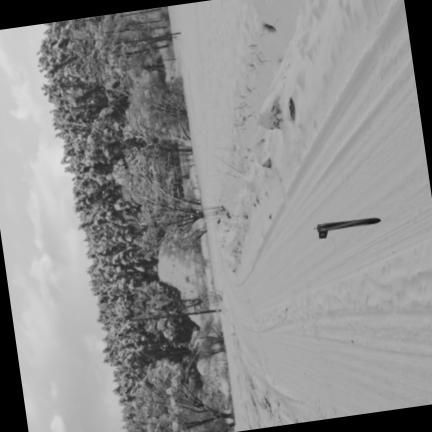Shahed: (315, 216, 379, 237)
